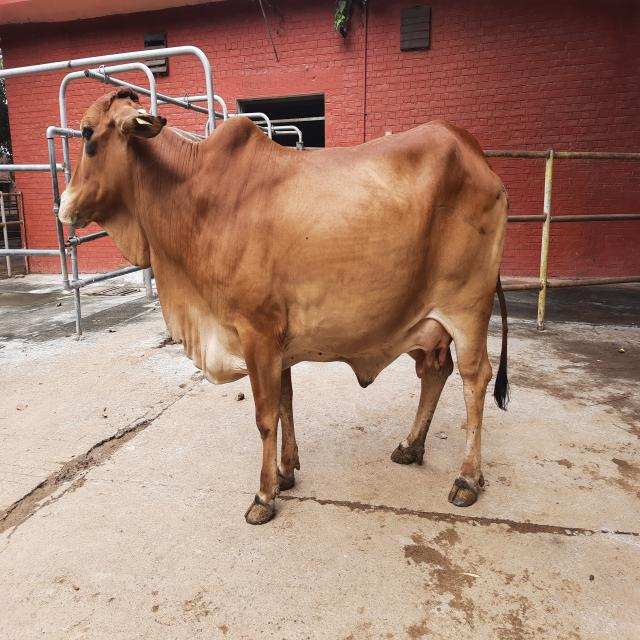cow: (57, 85, 511, 525)
hump: (199, 113, 274, 142)
